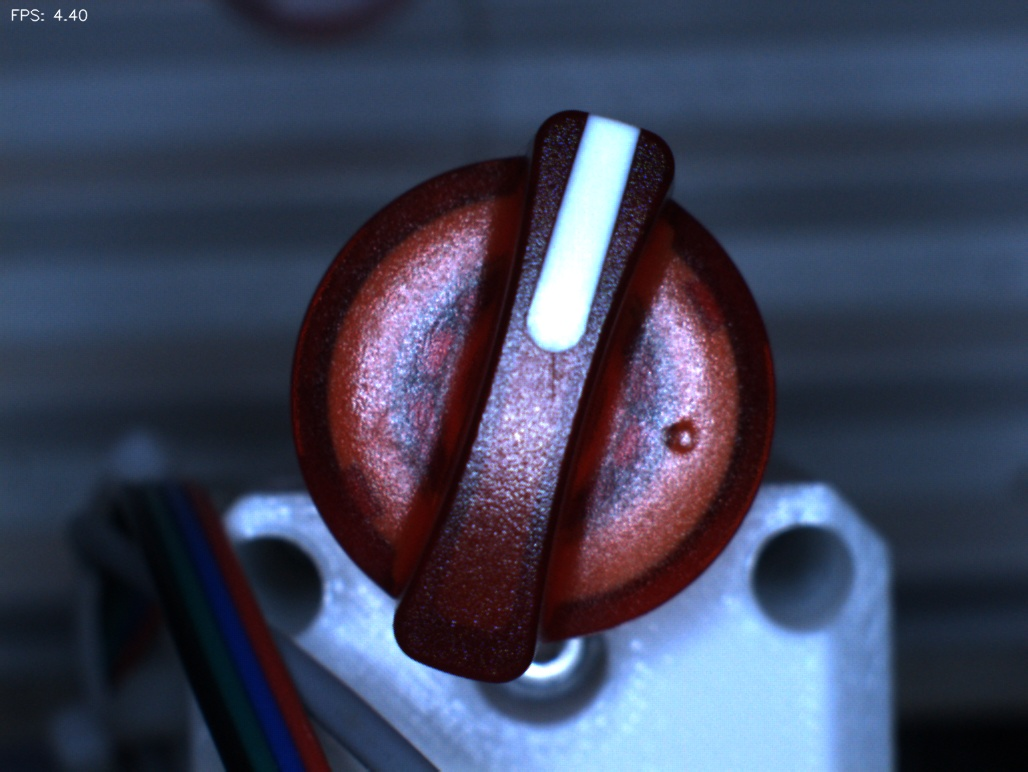Choc: (636, 399, 718, 481)
